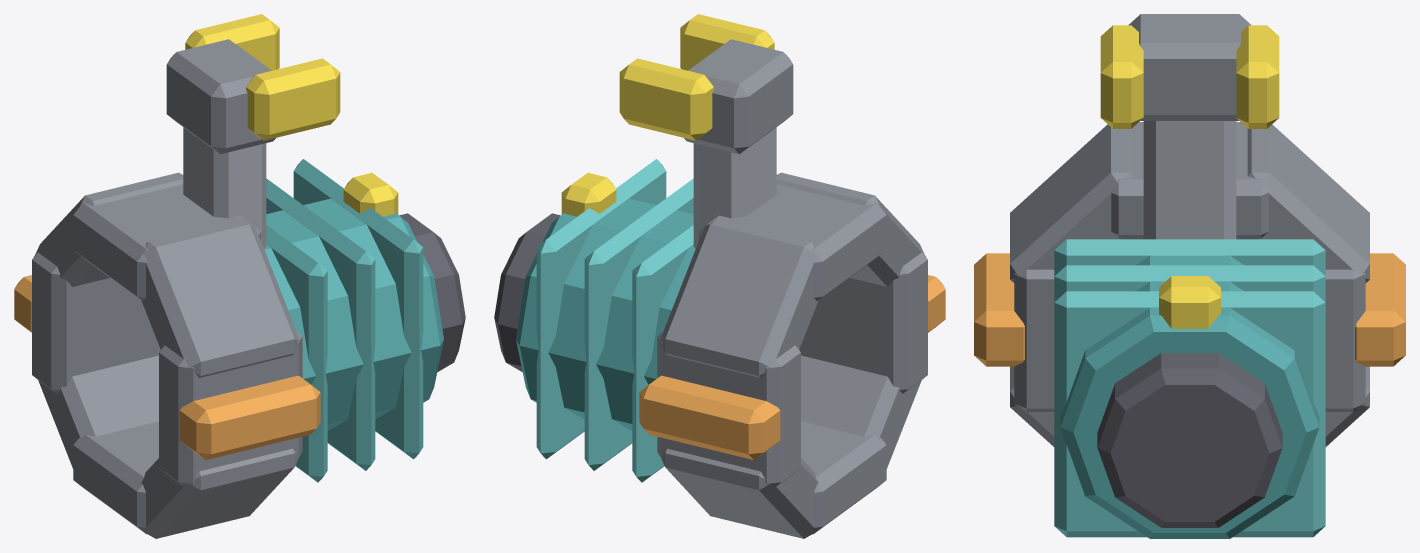
Rendered from crank_bot.glb.
3 views of the same model, side by side, from view 1: azimuth 30°, elevation 25°; view 2: azimuth 150°, elevation 25°; view 3: azimuth 270°, elevation 25° (orthographic). The views are drawn at different scales.
Visible parts, largest first — view 1: crank_bot; view 2: crank_bot; view 3: crank_bot.
Part boxes in pixels (<box>): crank_bot: <box>14,14,465,538</box>; crank_bot: <box>494,14,945,538</box>; crank_bot: <box>974,14,1405,538</box>.
Size of the model in its own units: 0.34 by 0.4308 by 0.35.
